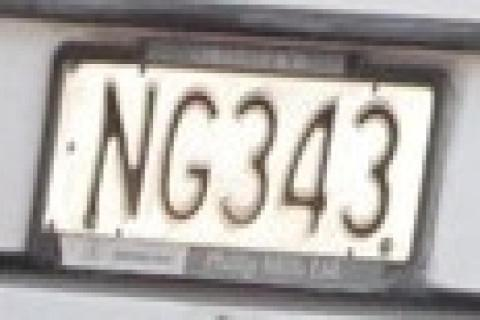LicensePlate: (40, 39, 438, 284)
